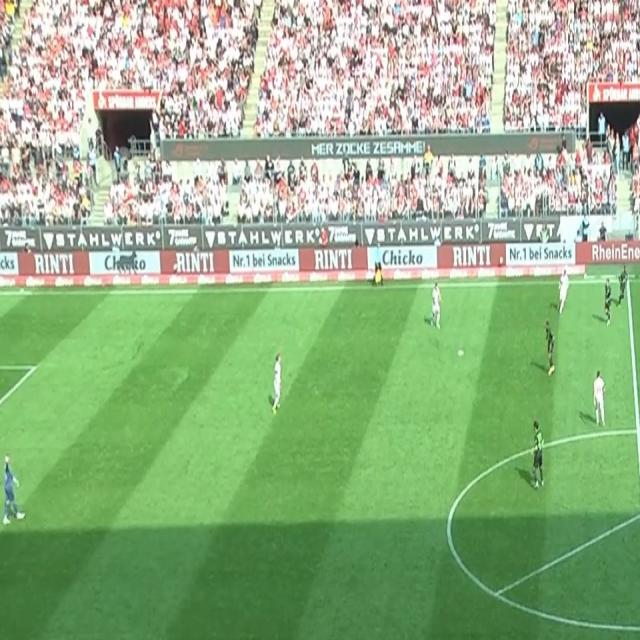ball: (457, 347, 464, 358)
